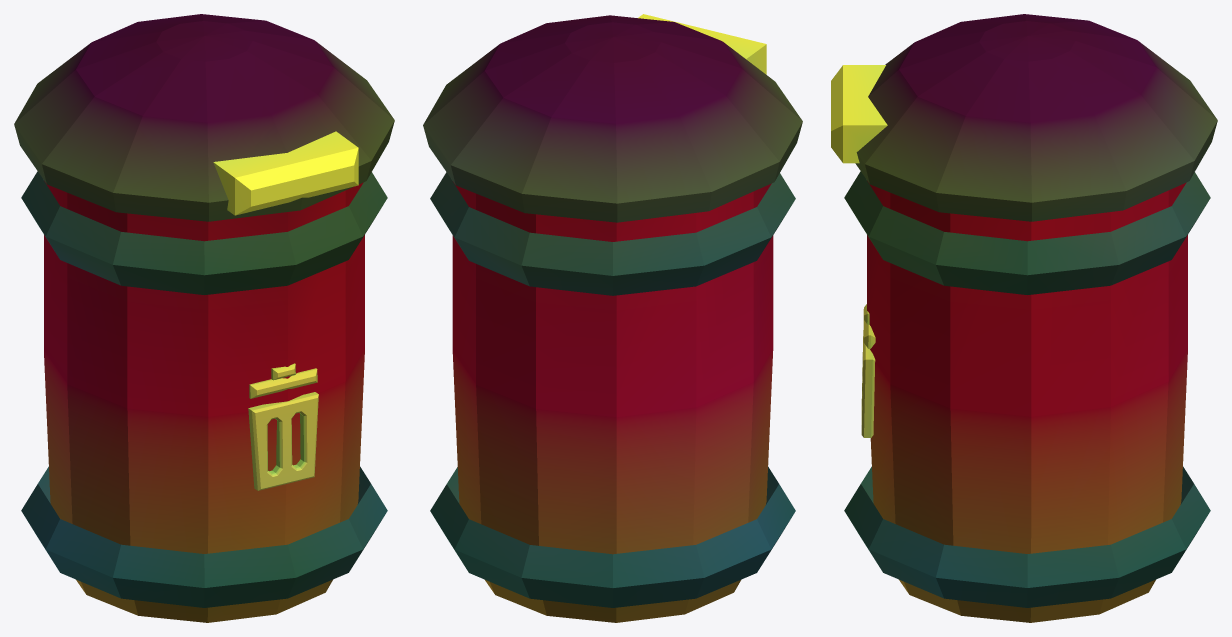
Rendered from Prop_TrashBin.fbx.
The picture shows the model from 3 angles, left to right: view 1: azimuth 30°, elevation 25°; view 2: azimuth 150°, elevation 25°; view 3: azimuth 270°, elevation 25°; orthographic projection.
Visible parts, largest first — view 1: Prop_TrashBin; view 2: Prop_TrashBin; view 3: Prop_TrashBin.
Boxes of the visible parts, x1,y1,x2,y2 form: Prop_TrashBin: (14,14,394,622); Prop_TrashBin: (423,14,802,622); Prop_TrashBin: (831,14,1217,622).
Size of the model in its own units: 0.6398 by 0.98 by 0.6499.
